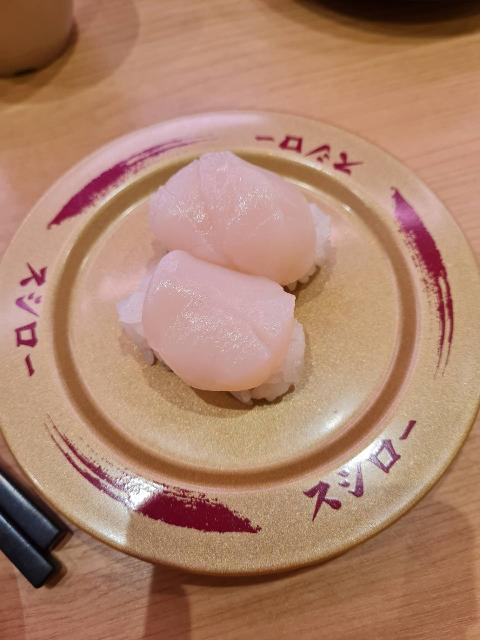jangold: (338, 115, 480, 480), (124, 397, 424, 569), (0, 199, 129, 547), (23, 105, 379, 174)
